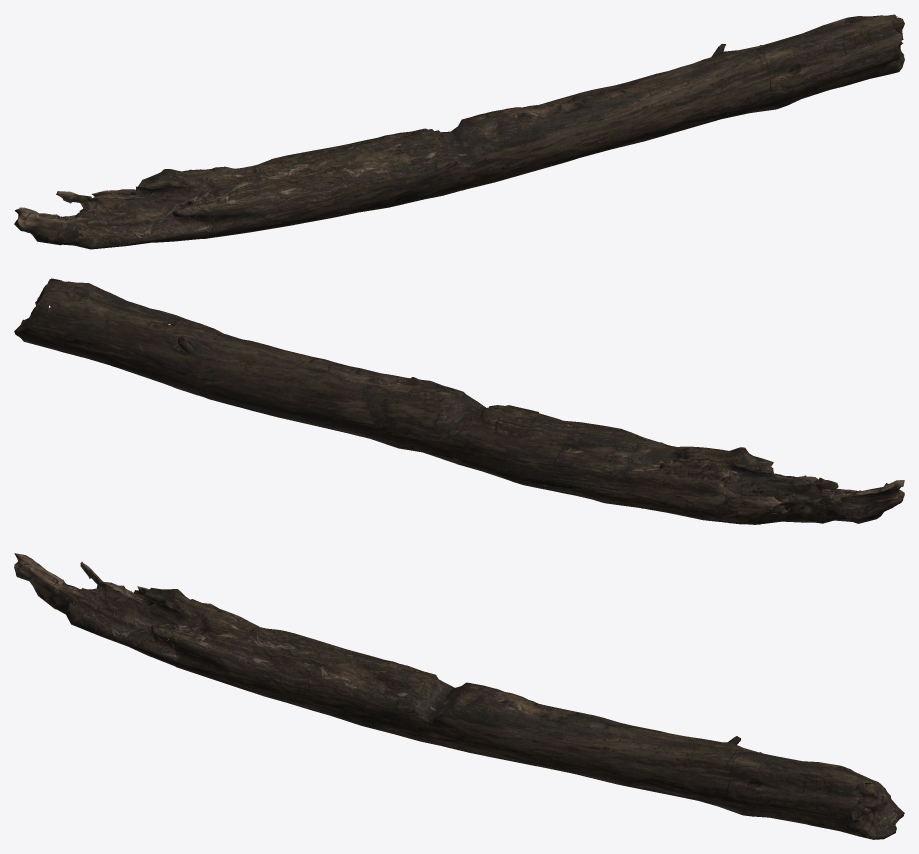
The model's file is kf_dead_trunk_a.glb.
3 views of the same model, one above another, from view 1: azimuth 30°, elevation 25°; view 2: azimuth 150°, elevation 25°; view 3: azimuth 330°, elevation 25° (orthographic).
Visible parts, largest first — view 1: dead_tree_trunk; view 2: dead_tree_trunk; view 3: dead_tree_trunk.
Boxes of the visible parts, x1,y1,x2,y2 form: dead_tree_trunk: (14, 14, 904, 249); dead_tree_trunk: (14, 278, 904, 524); dead_tree_trunk: (14, 553, 904, 839).
Size of what is drawn, in the model's own units: 3.05 by 0.2898 by 0.275.
Materials: 1 (1 with a texture image).
